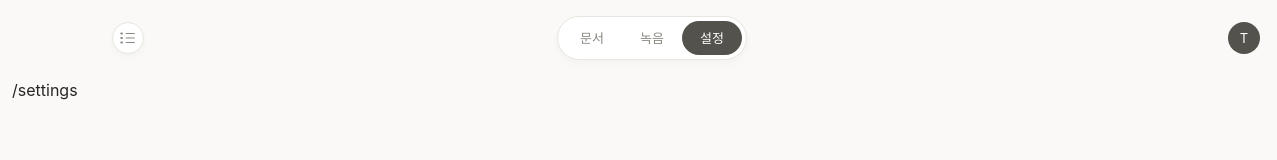
AppShellLayout navigation › returns the Record tab to a processing summary that is waiting for selection
This screenshot has width=1277, height=160.
Click the link "녹음": (652, 38) x1=640 y1=30 x2=664 y2=46
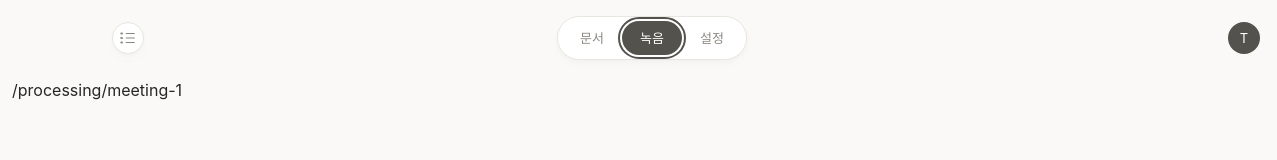
Expected: the text named "현재 경로" reads "/processing/meeting-1", x1=12 y1=80 x2=182 y2=100
